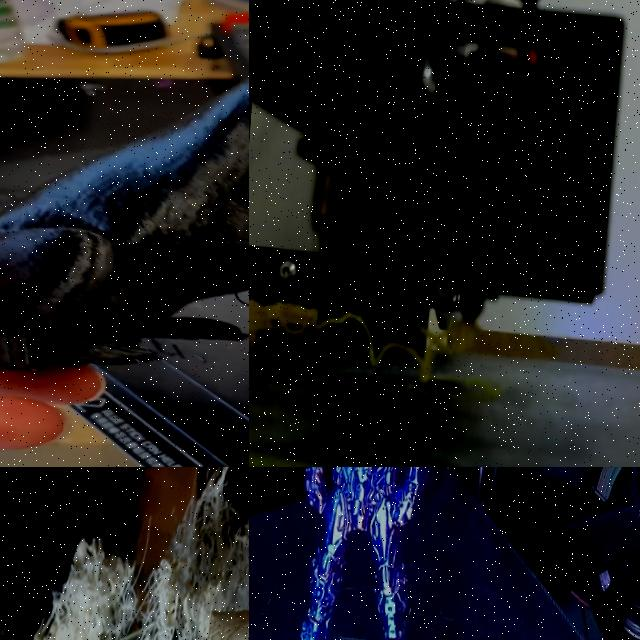spaghetti: (0, 467, 249, 640), (249, 298, 430, 383), (419, 317, 480, 352)
